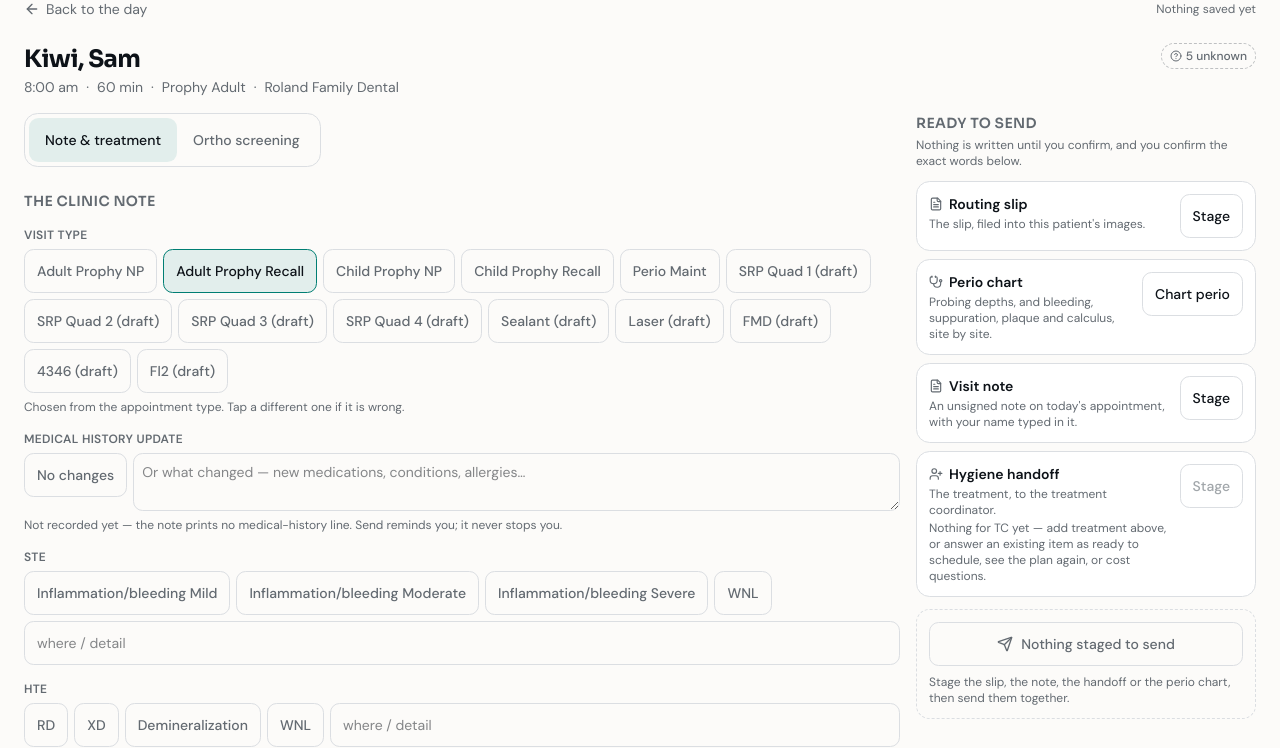
Test: 1: every group, exactly as approved › months are multi-select, and the live summary shows the range
Click the tab with test id "hyg-visit-tab-ortho". click: (246, 140)
box: [177,118,316,162]
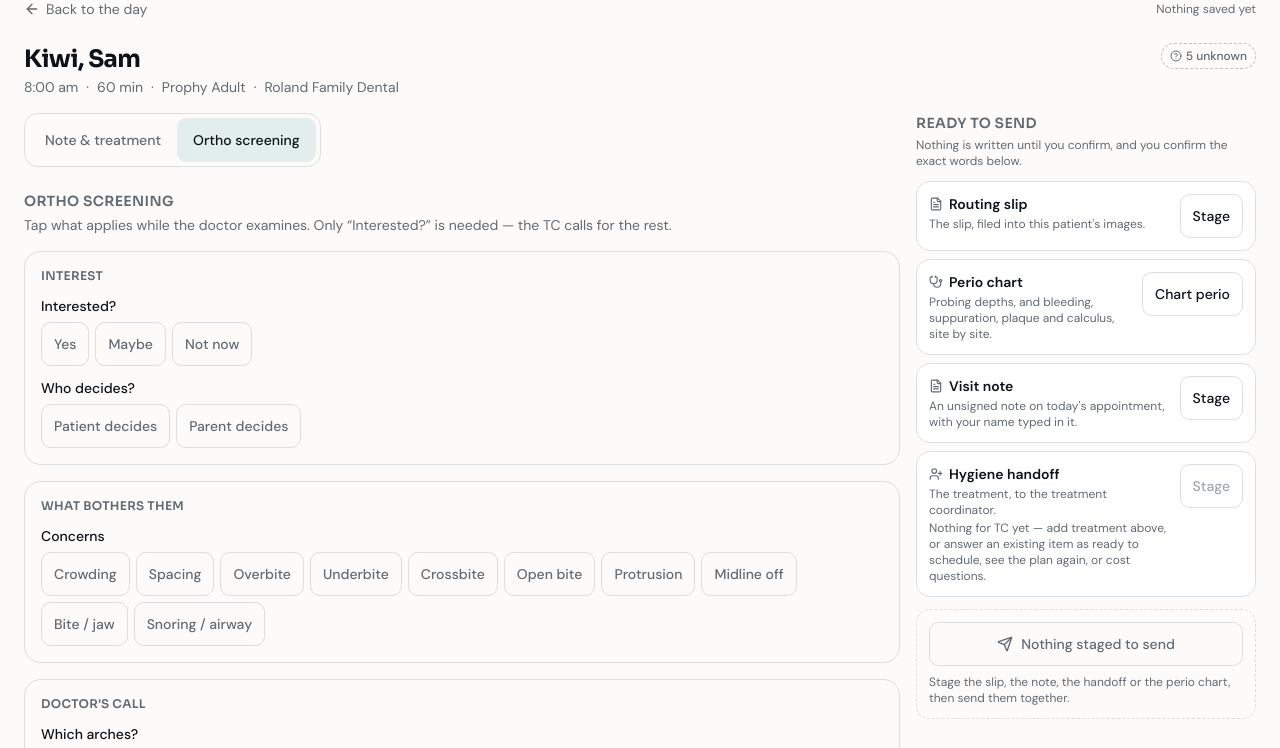
Click the button with test id "ortho-interest-yes". click: (65, 344)
box: [41,322,89,366]
(page scrolled)
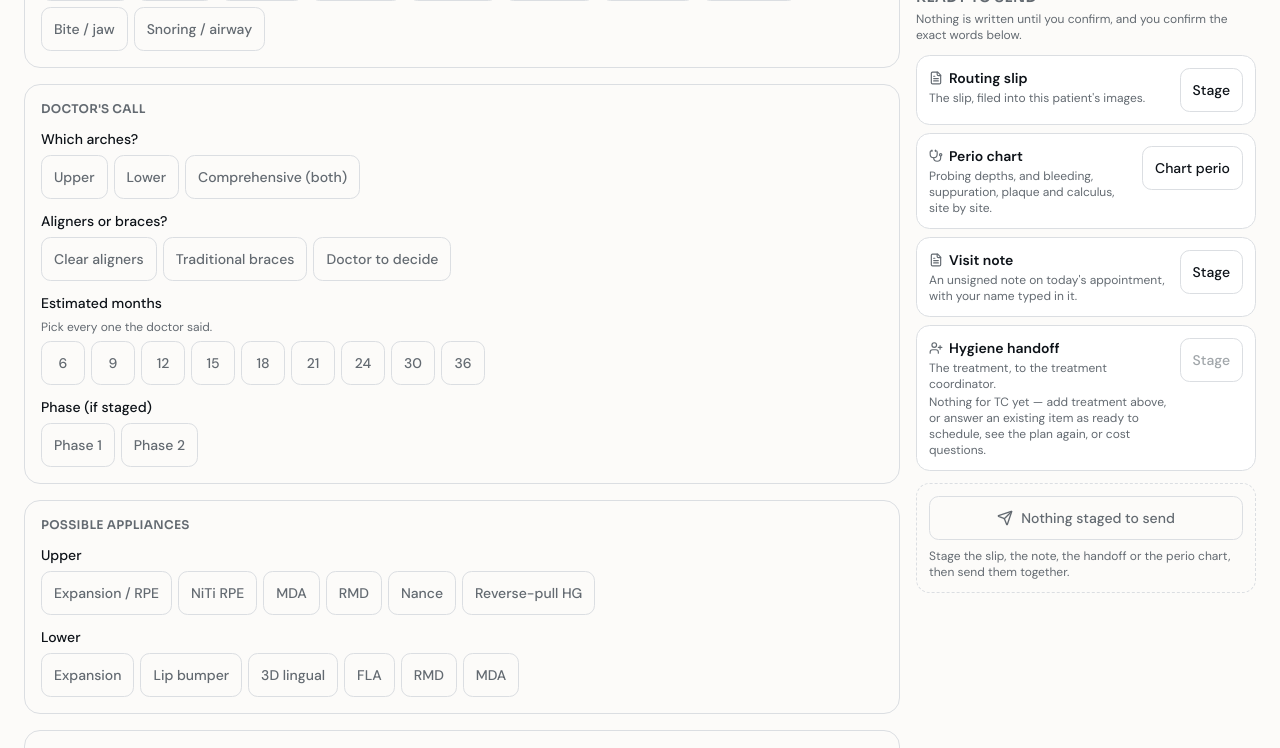
Click the button with test id "ortho-months-18". click: (263, 363)
box: [241,341,285,385]
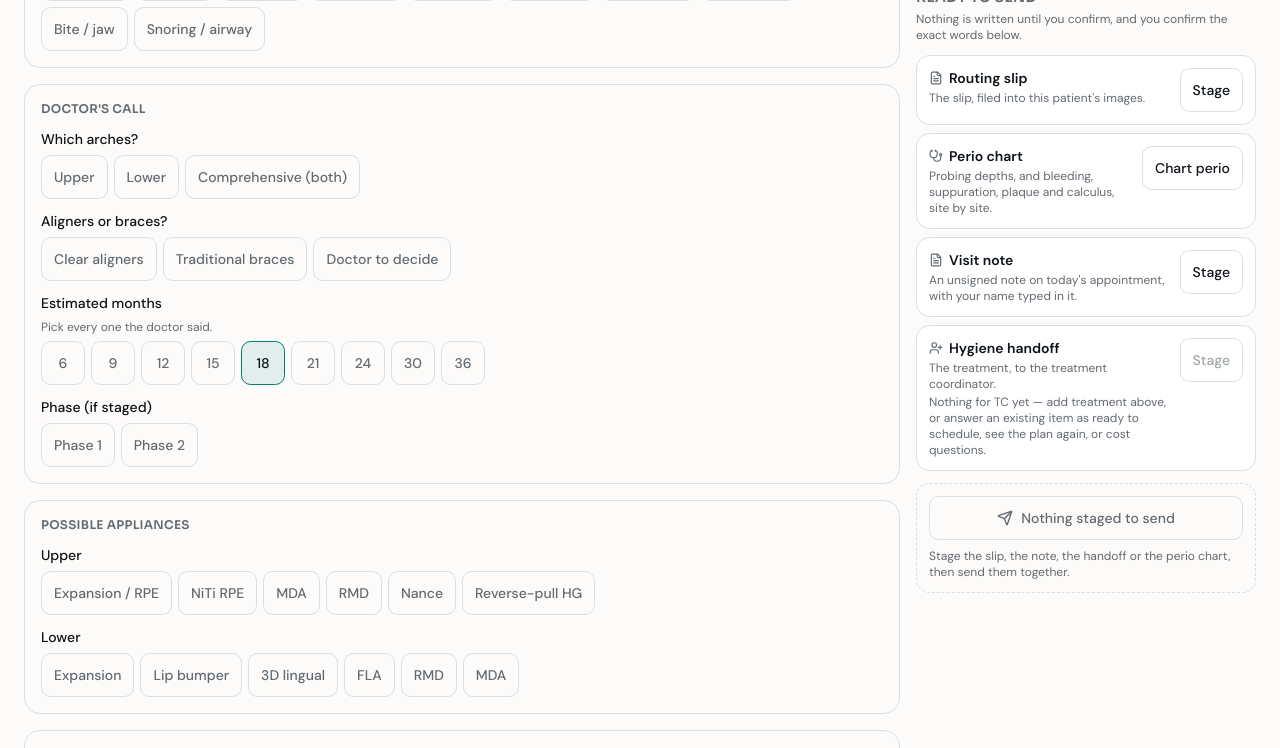
Click the button with test id "ortho-months-24". click: (363, 363)
box: [341,341,385,385]
(page scrolled)
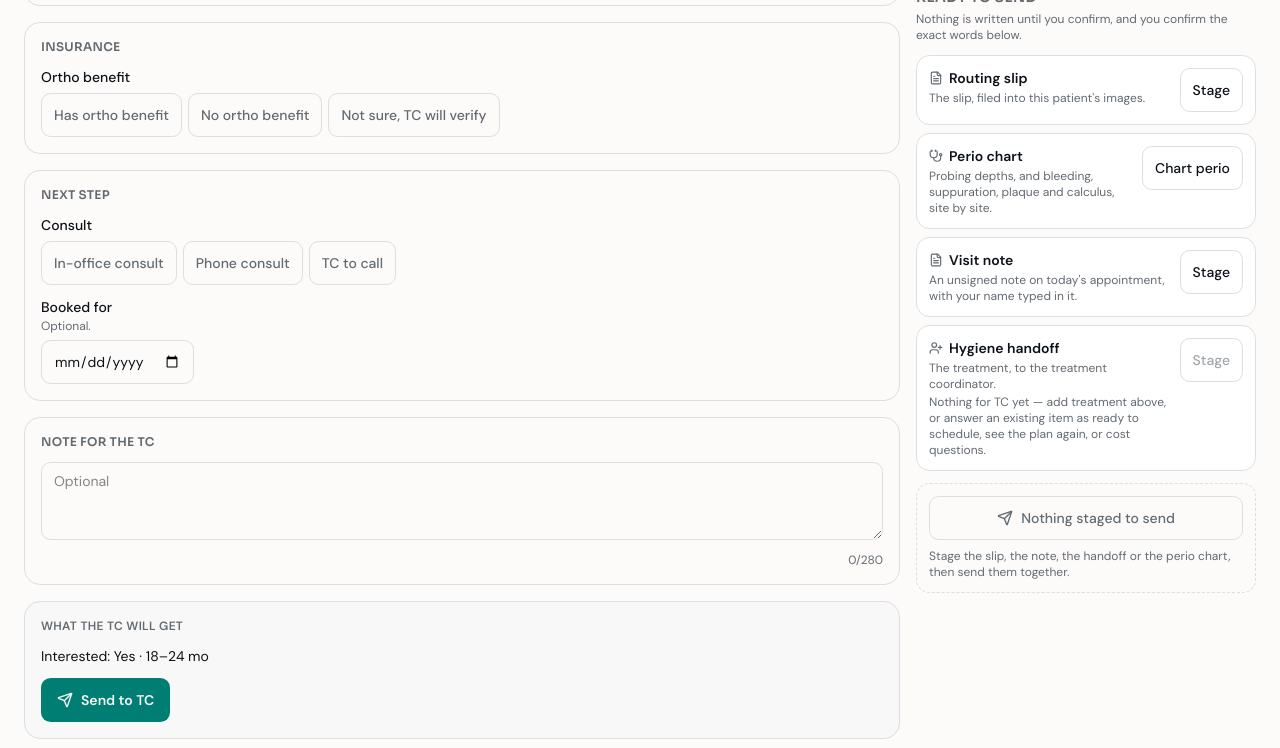
Result: the text with test id "ortho-summary" reads "Interested: Yes · 18–24 mo" at [41,647,209,665]
